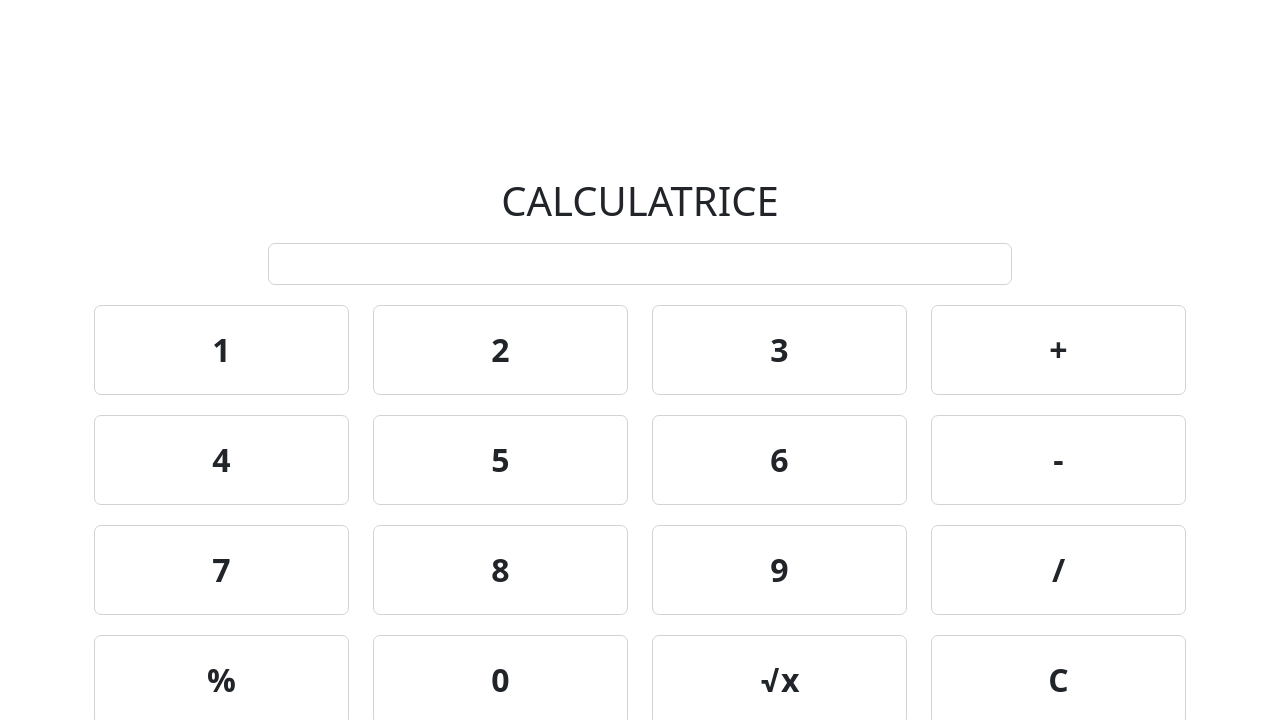
it: Calculator › Test modulo
Click the text "4" at {"x": 222, "y": 460}, box [94,415,349,505]
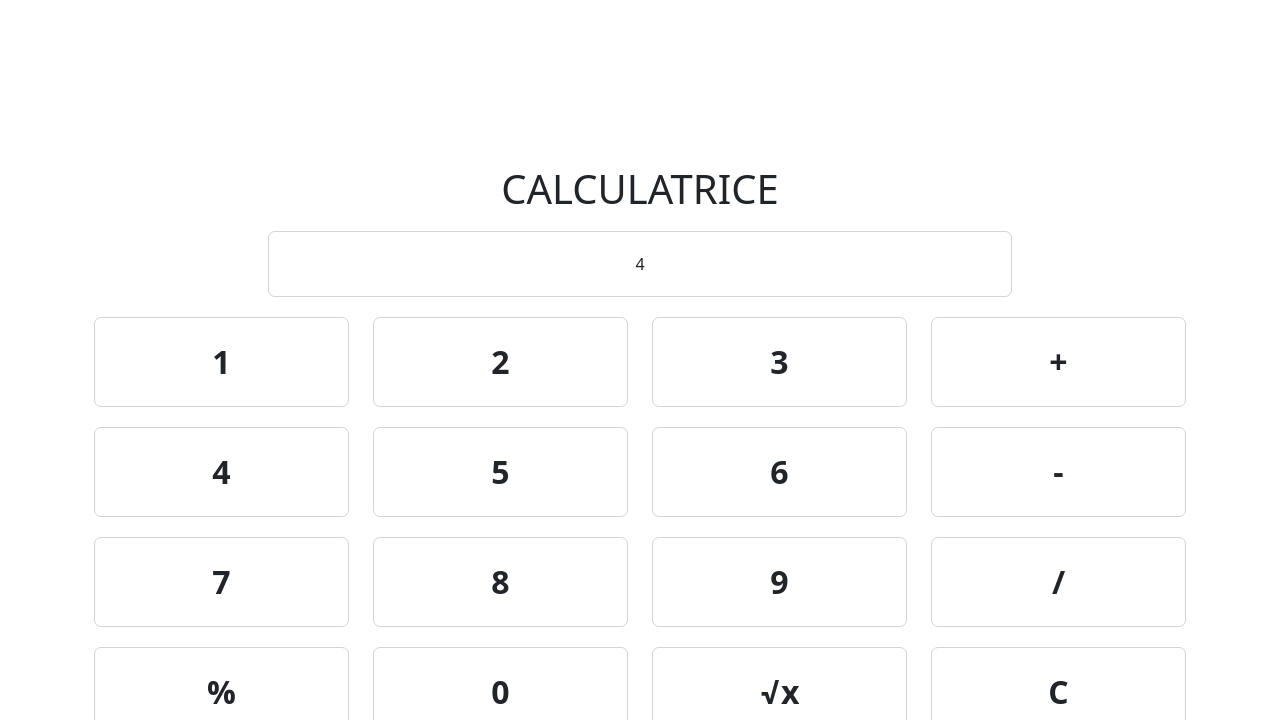
Scroll
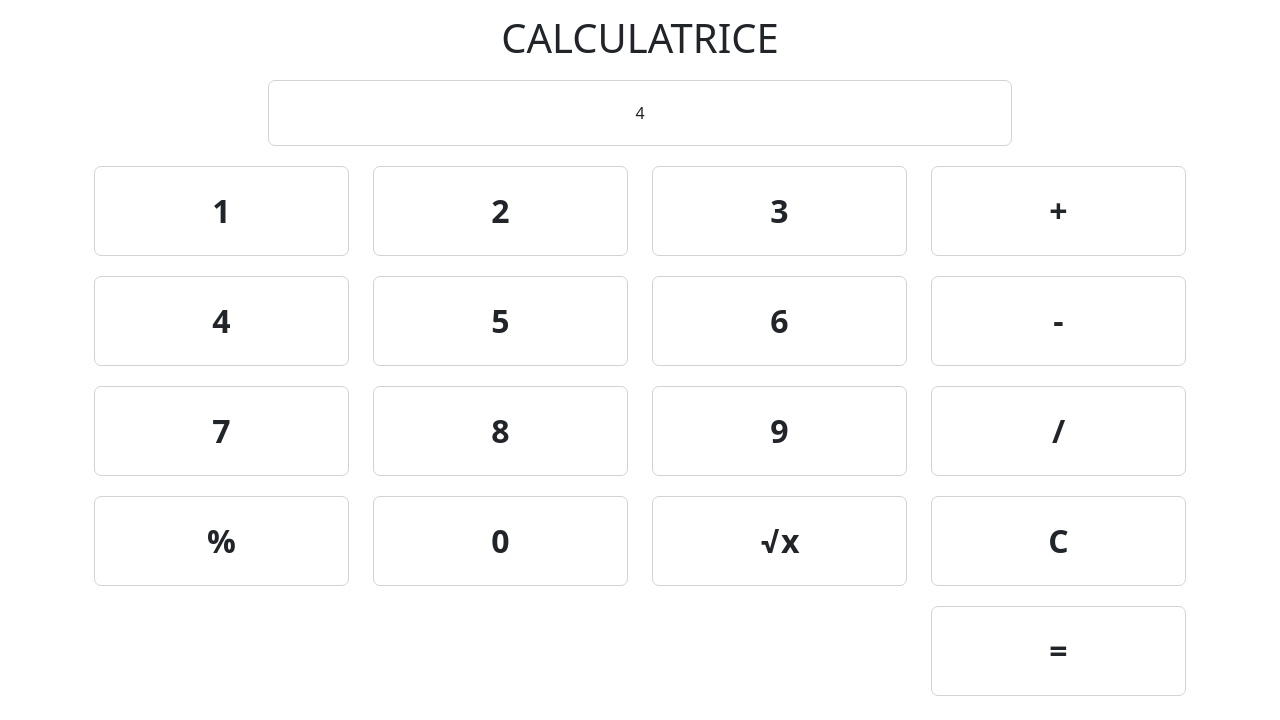
Click the text "%" at {"x": 222, "y": 541}, box [94,496,349,586]
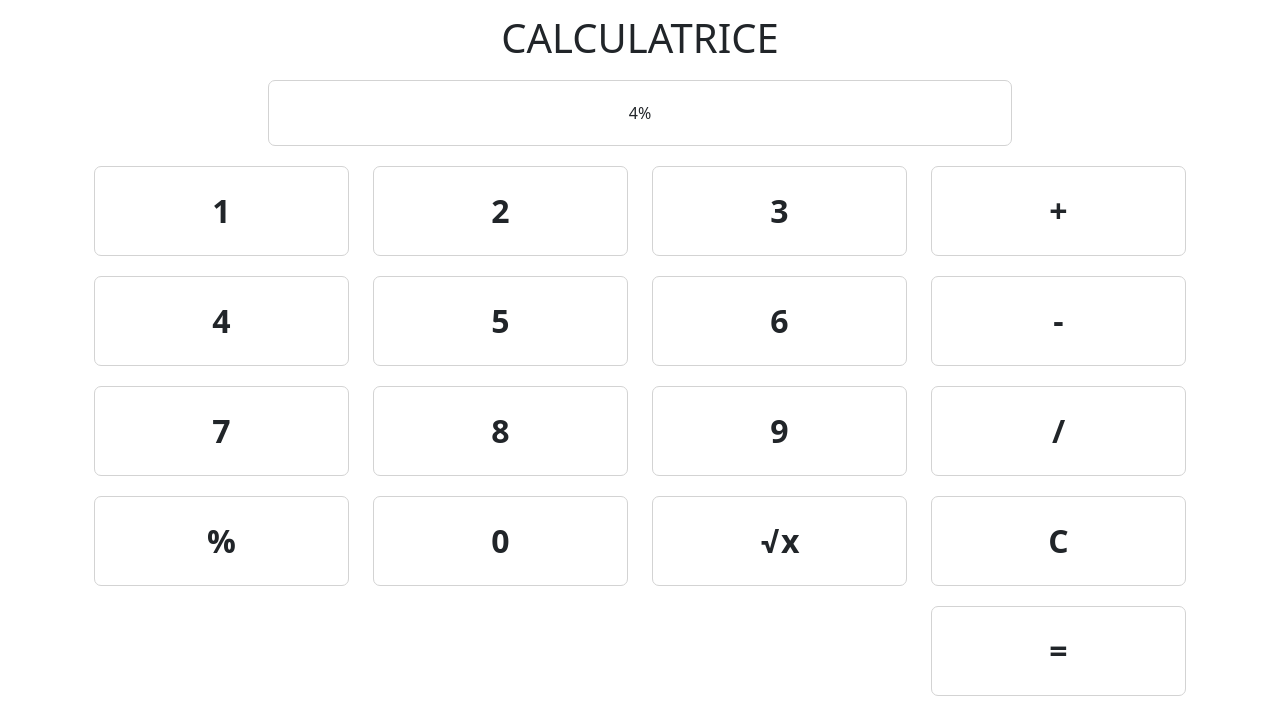
Click the text "2" at {"x": 501, "y": 211}, box [373,166,628,256]
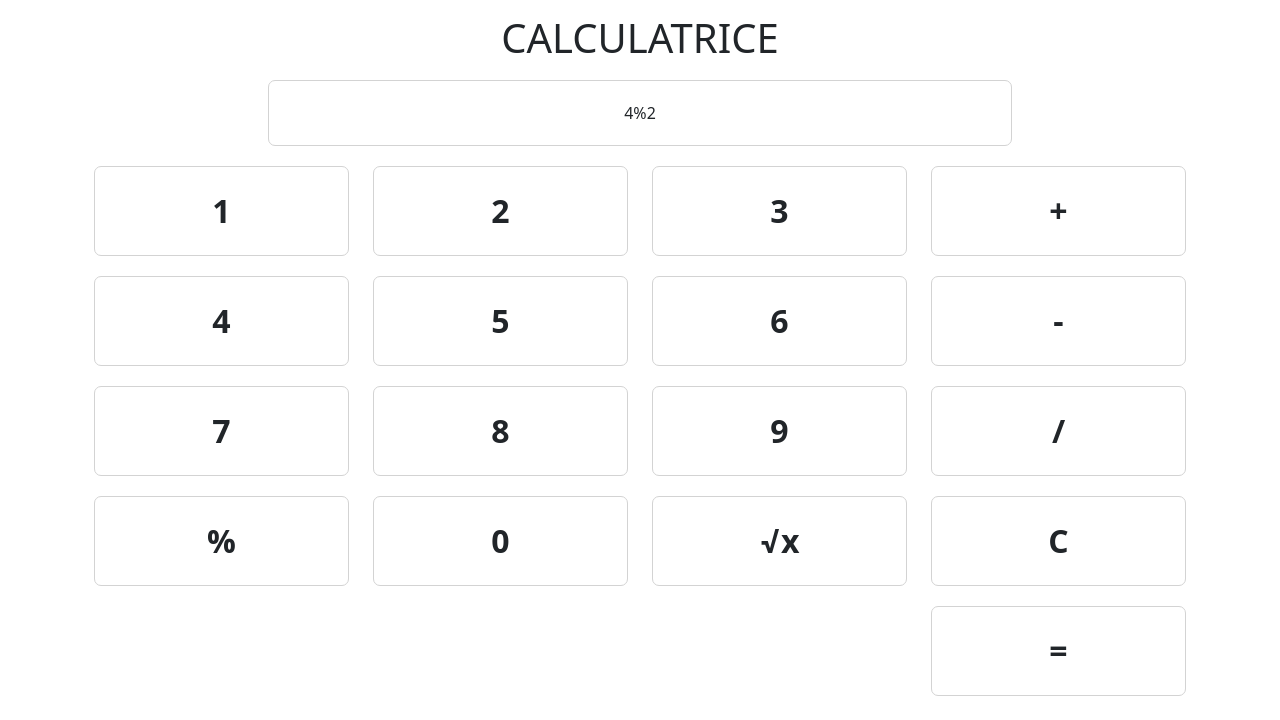
Click the text "=" at {"x": 1059, "y": 651}, box [931,606,1186,696]
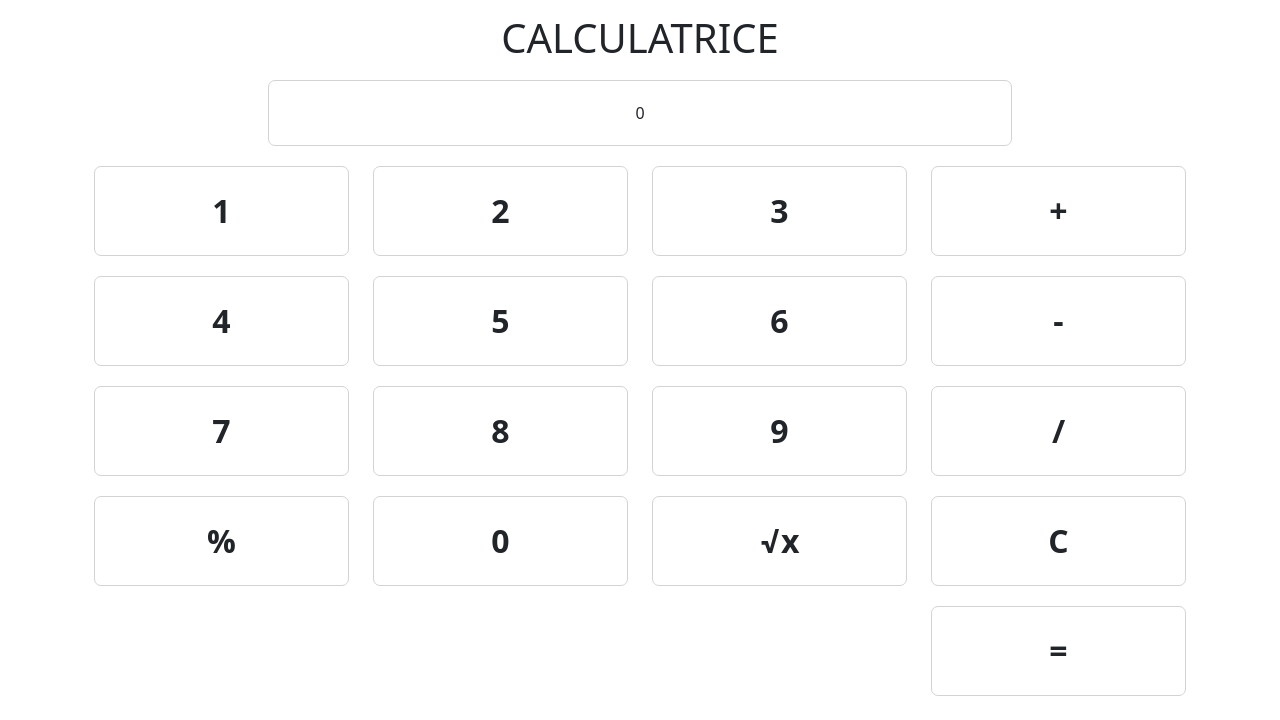
Check: the 1st text "0" is shown, box [268,80,1012,146]
